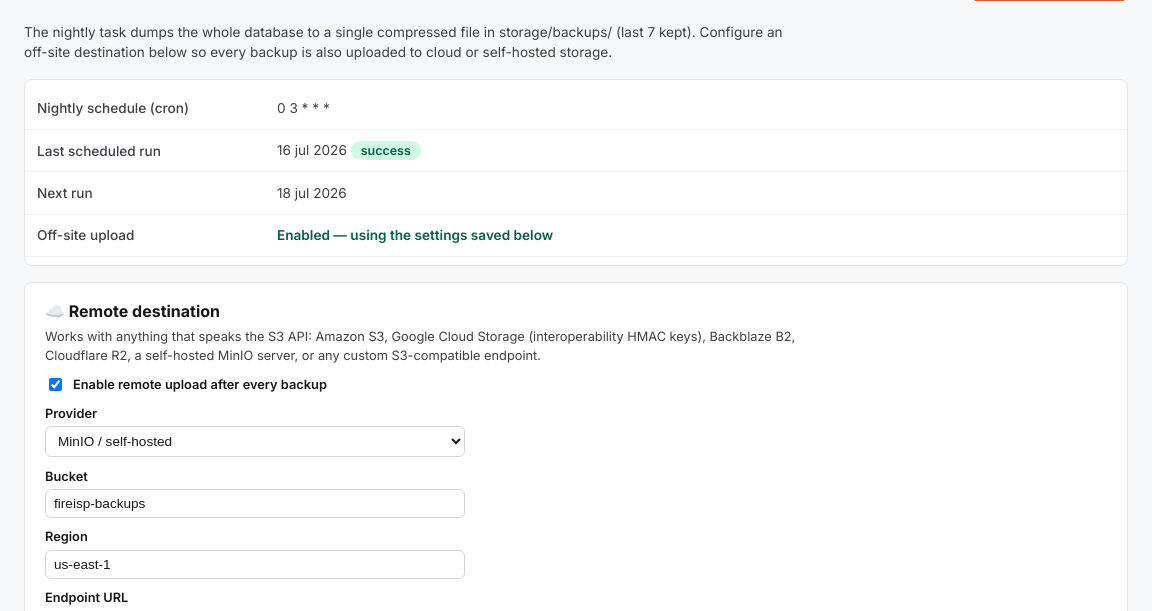
Test: BackupSettings page › disables Test connection while the form has unsaved edits, with a hint
The width and height of the screenshot is (1152, 611).
Step 1. Replace the text in the 1st field showing "fireisp-backups" with "edited-bucket" → x=255, y=503, box [45,489,465,518]
(page scrolled)
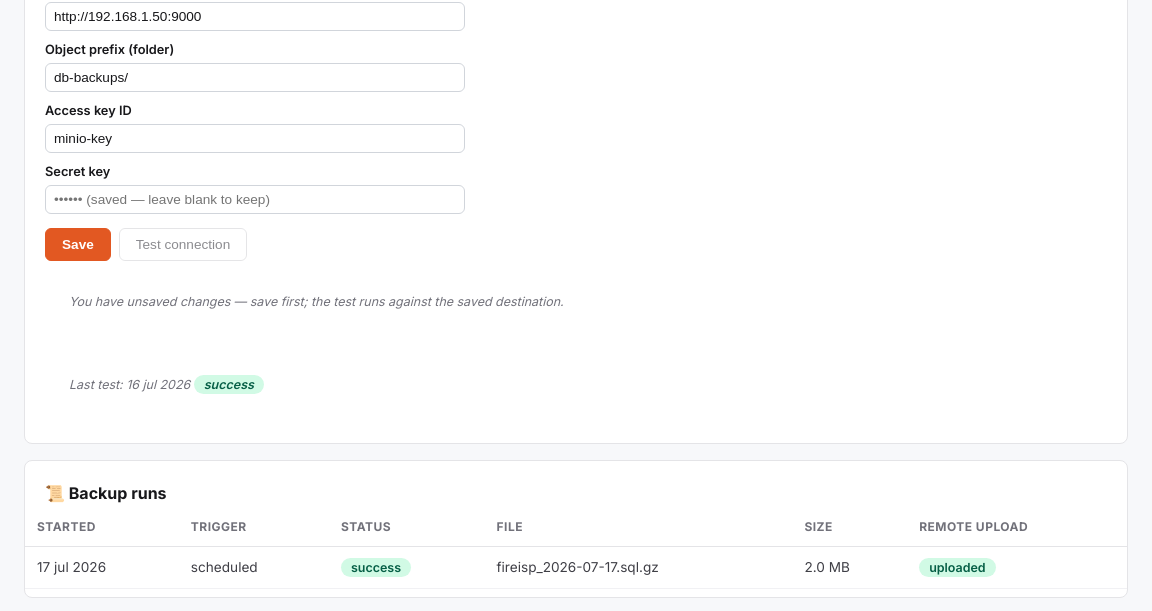
Expected: the button "Test connection" is disabled, [119,228,247,261]
Expected: the text "save first; the test runs against the saved destination" is shown, [69,294,564,309]
